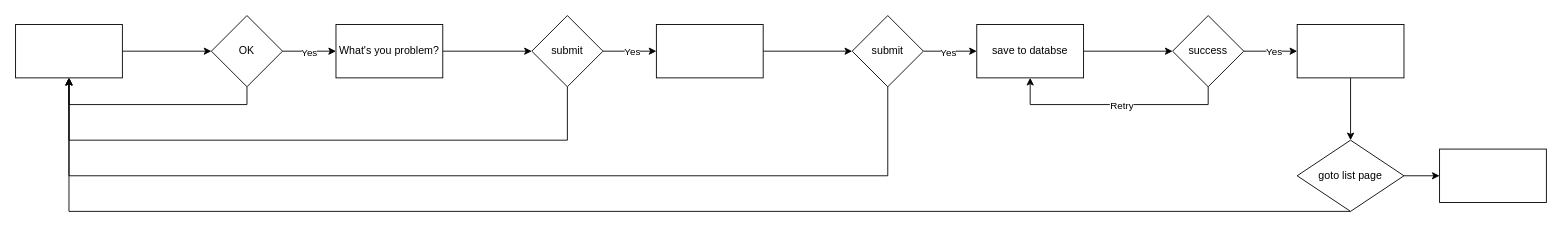
Image size: 1562x234. Some labels were removed from this diagram. Each missing label, with the box of its shape:
Let me help you: (15, 24, 122, 78)
List Page: (1439, 148, 1546, 202)
return one unique code: (1296, 24, 1404, 78)
When do you want me to slove it?: (655, 24, 763, 78)
